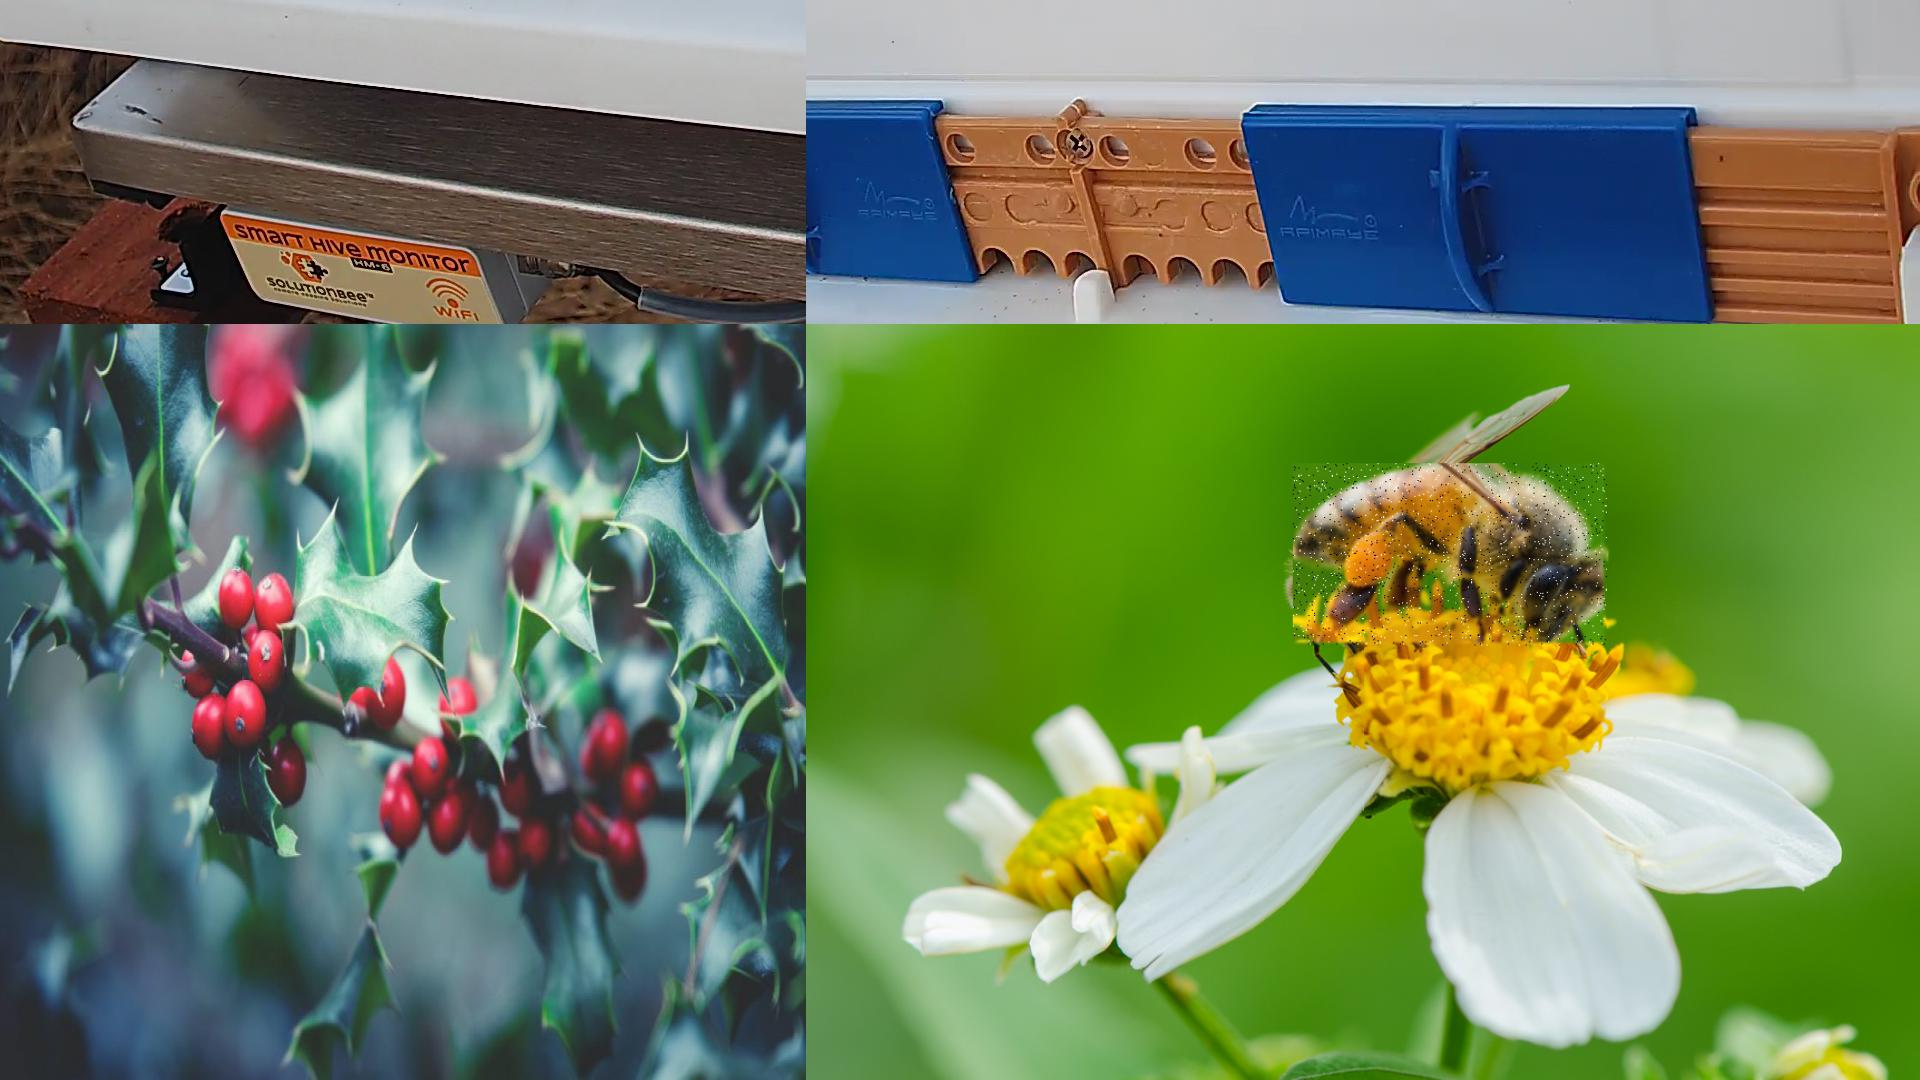pollenbee: (1294, 464, 1609, 647)
